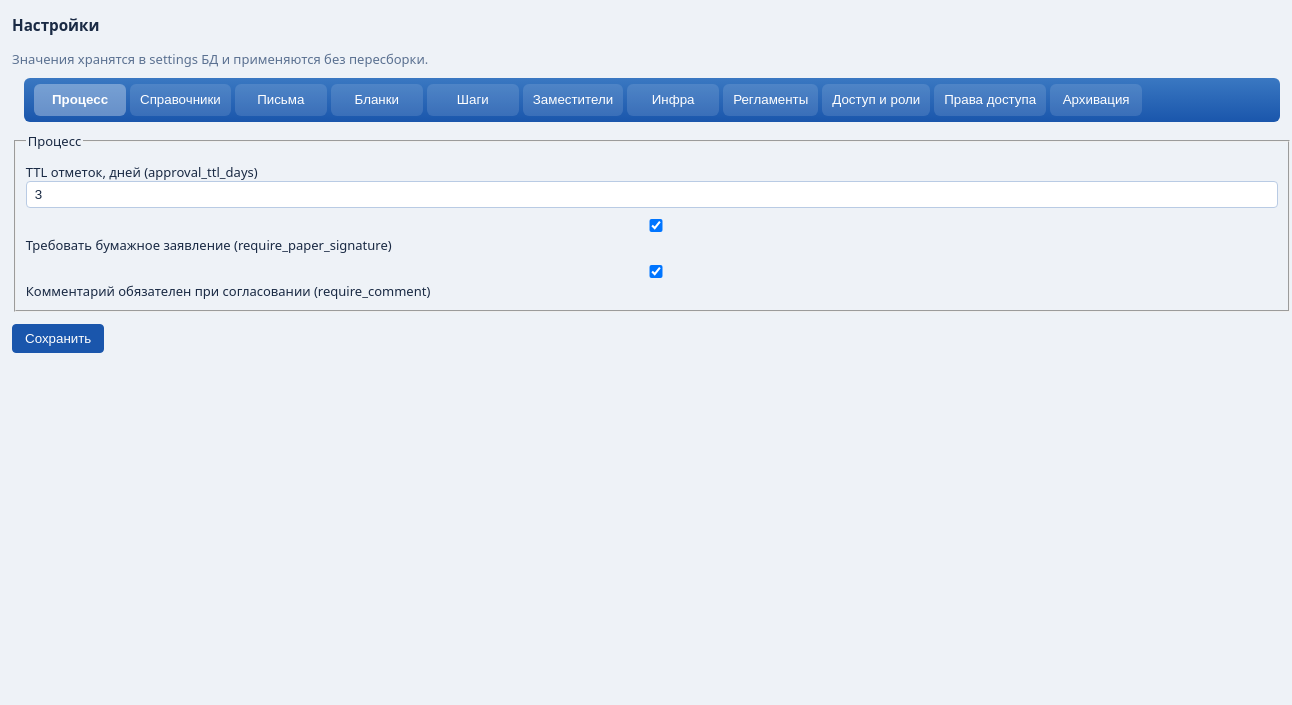
Test: AdminSettings › добавляет и удаляет группы доступа
Click the button "Справочники".
click(180, 100)  # box 130,84 -> 231,116
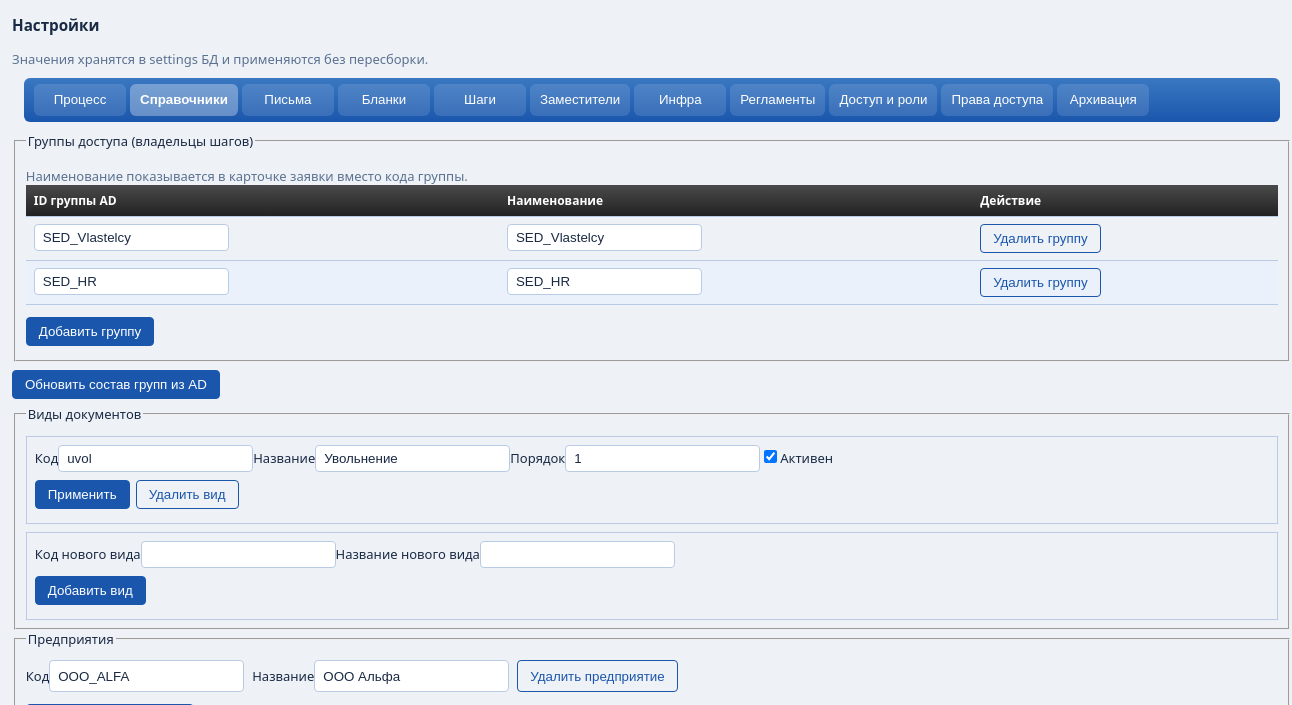
Check: the field named "ID группы 1" holds "SED_Vlastelcy", box 34,224 -> 229,251
Check: the field named "Наименование группы 1" holds "SED_Vlastelcy", box 507,224 -> 702,251
Click the button "Добавить группу".
click(90, 331)  # box 26,317 -> 154,346
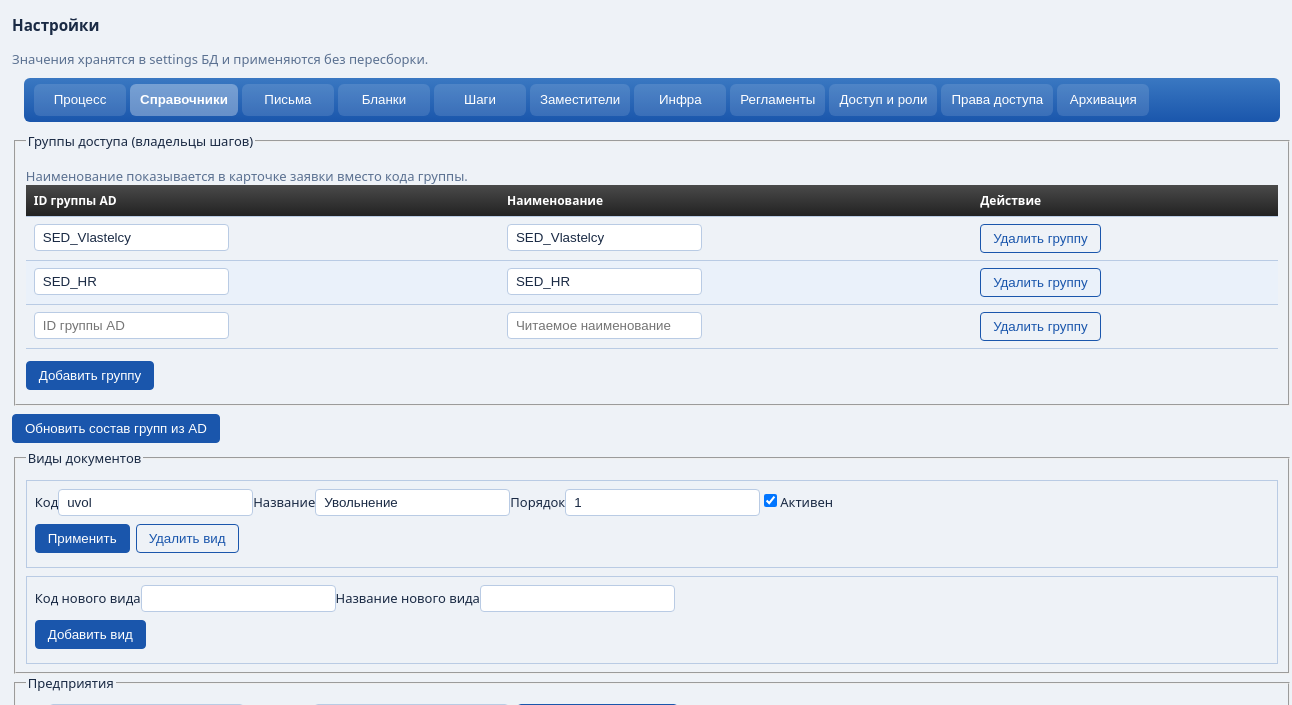
Check: the field named "ID группы 3" is shown, box 34,312 -> 229,339
Click the 1st button "Удалить группу".
click(1040, 238)  # box 980,224 -> 1101,253
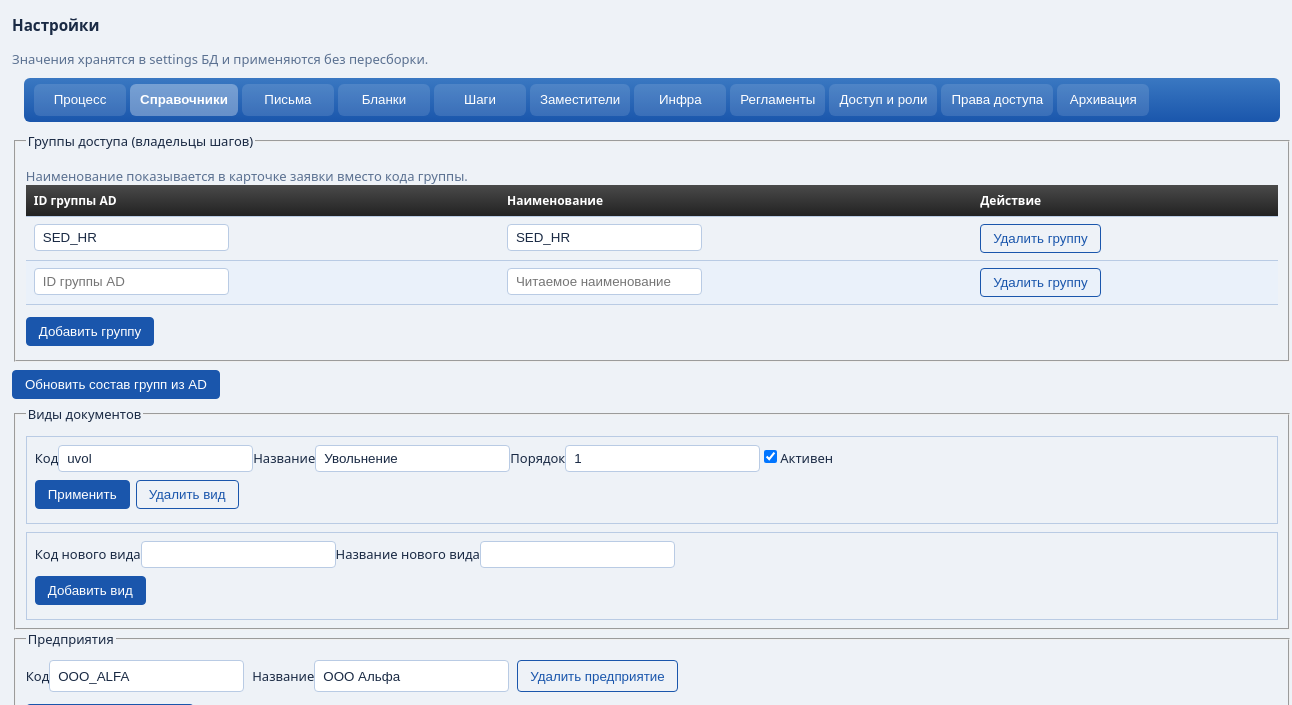
Check: the field named "ID группы 1" holds "SED_HR", box 34,224 -> 229,251
